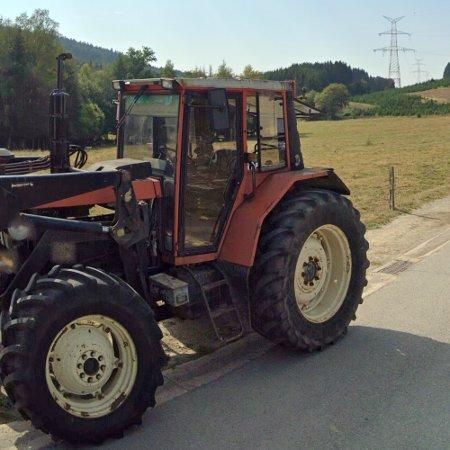tractors: (0, 53, 369, 444)
